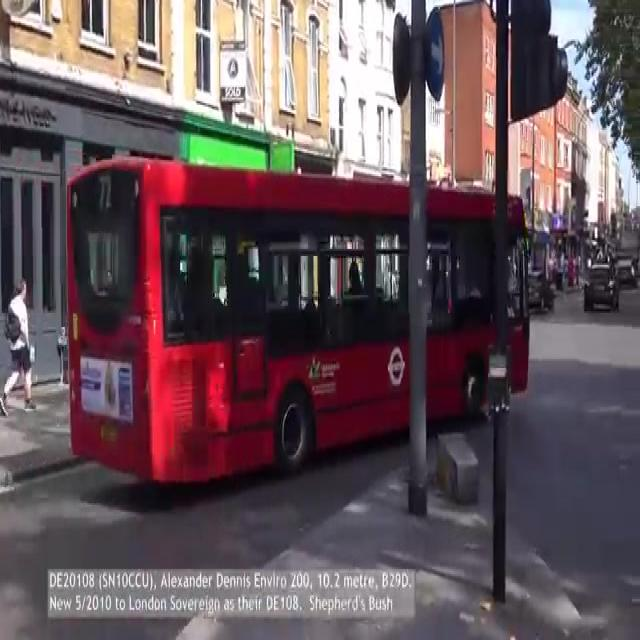bus: (29, 143, 548, 497)
